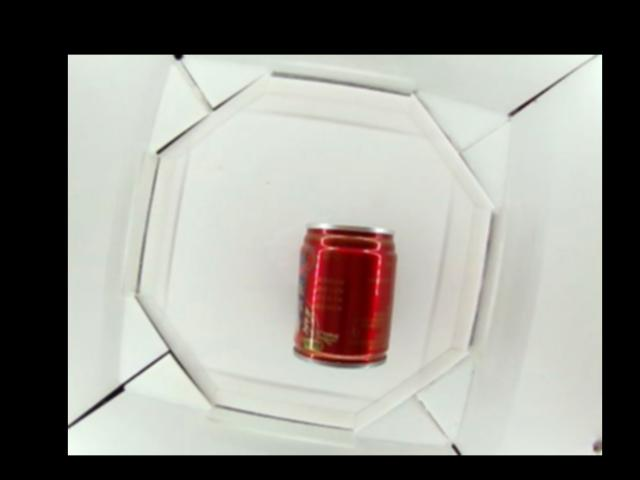Bottle: (291, 223, 400, 372)
